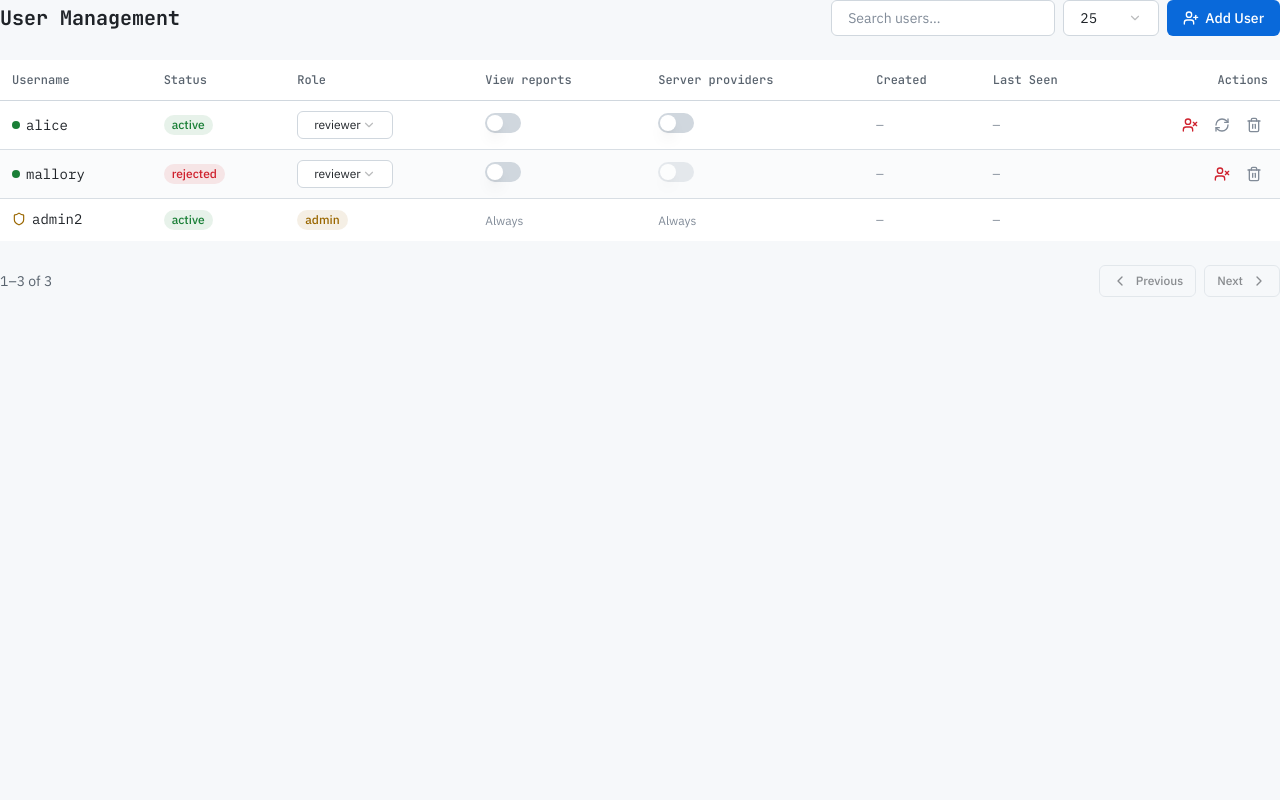
Test case: admin API key rotation › confirms first, then shows the new key once with a copy button
Click the button named "Rotate key for alice". click: (1222, 124)
box: [1208, 110, 1236, 138]
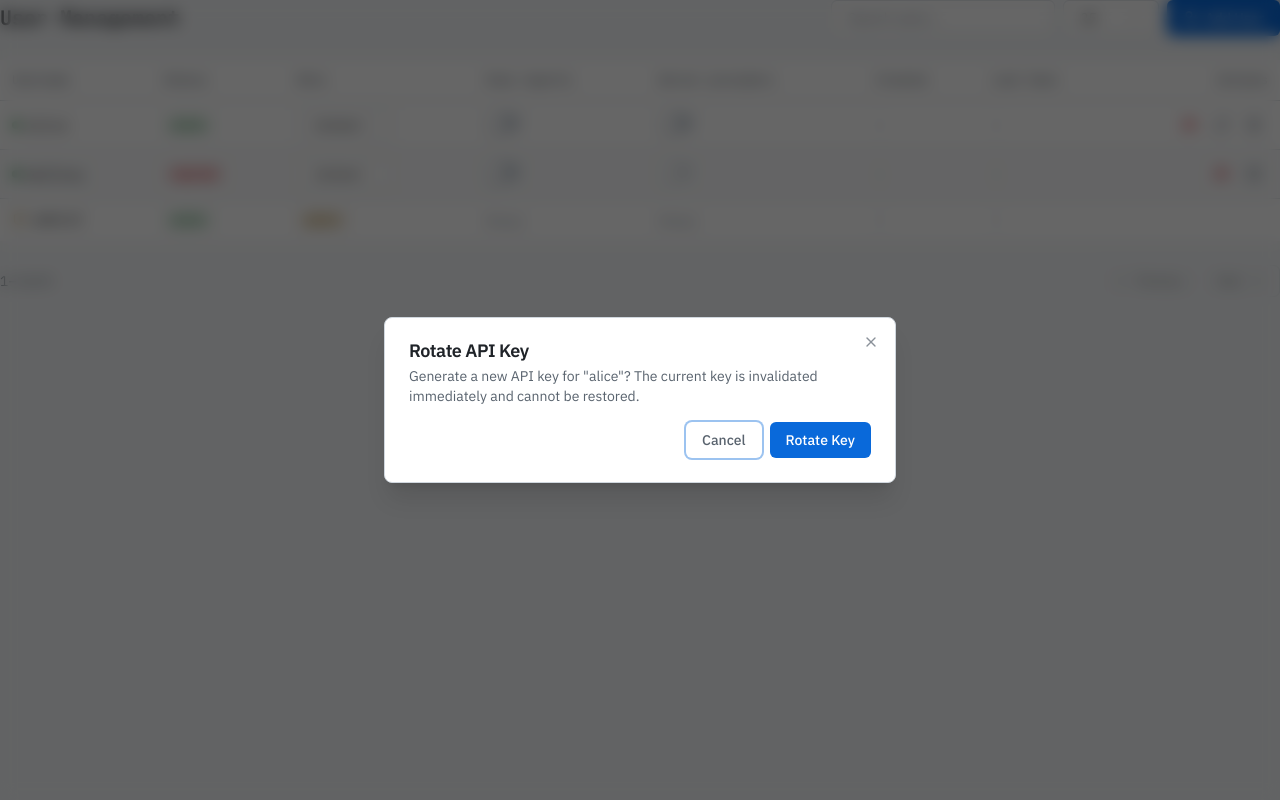
Now the text "invalidated immediately" is shown, box [409, 367, 818, 405]
Click the button "Rotate Key". click: (820, 440)
box: [770, 422, 871, 458]
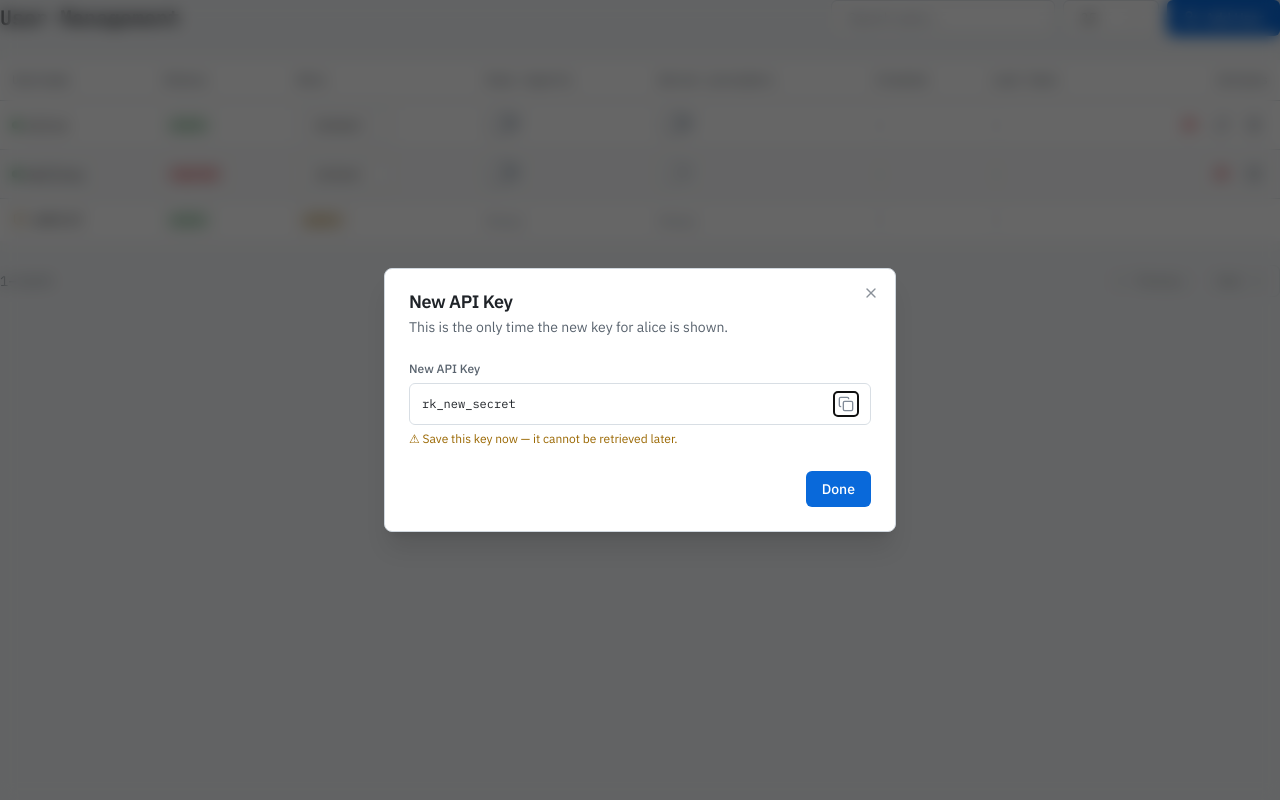
Now the text "rk_new_secret" is shown, box [422, 396, 516, 411]
Now the button named "Copy to clipboard" is shown, box [834, 392, 858, 416]
Now the text "⚠ Save this key now — it cannot be retrieved later." is shown, box [409, 431, 678, 446]
Closing discards the key for good.
Click the button "Done". click: (838, 489)
box: [806, 471, 871, 507]
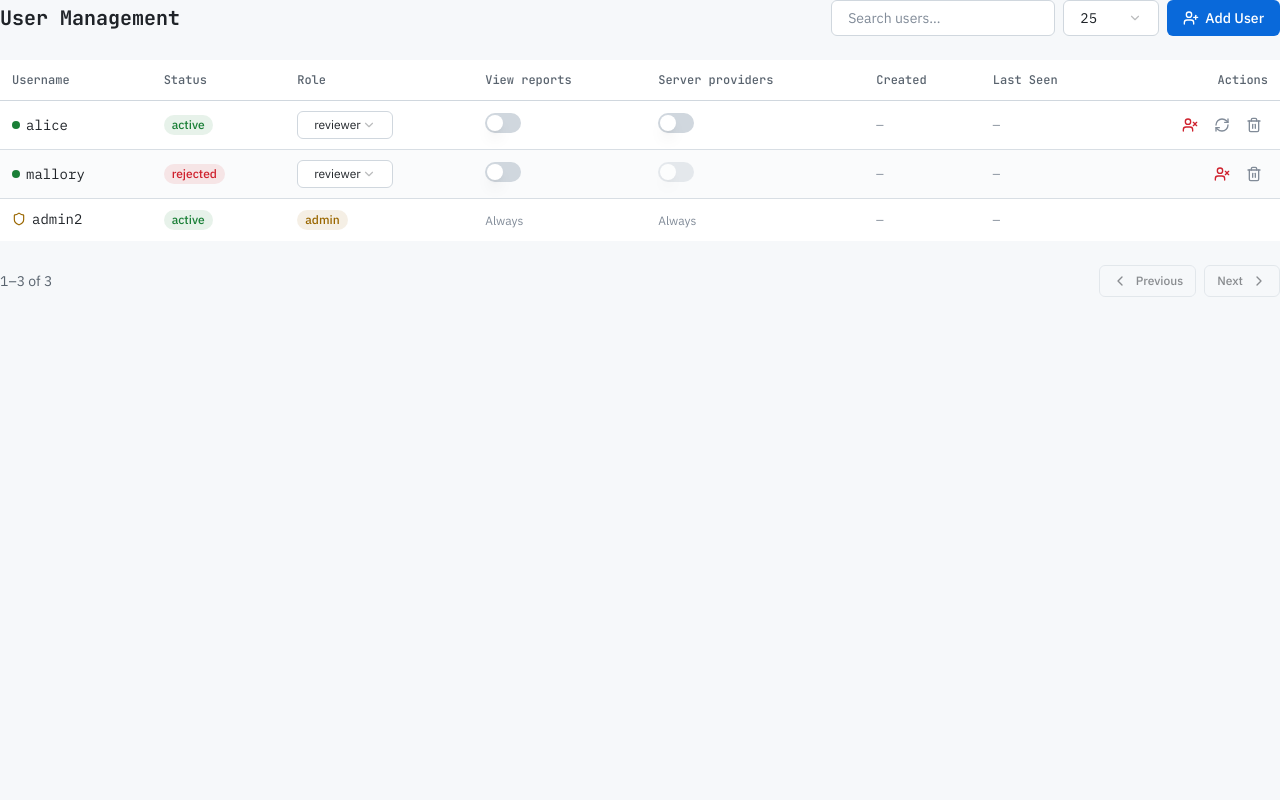
Now the text "rk_new_secret" is gone
